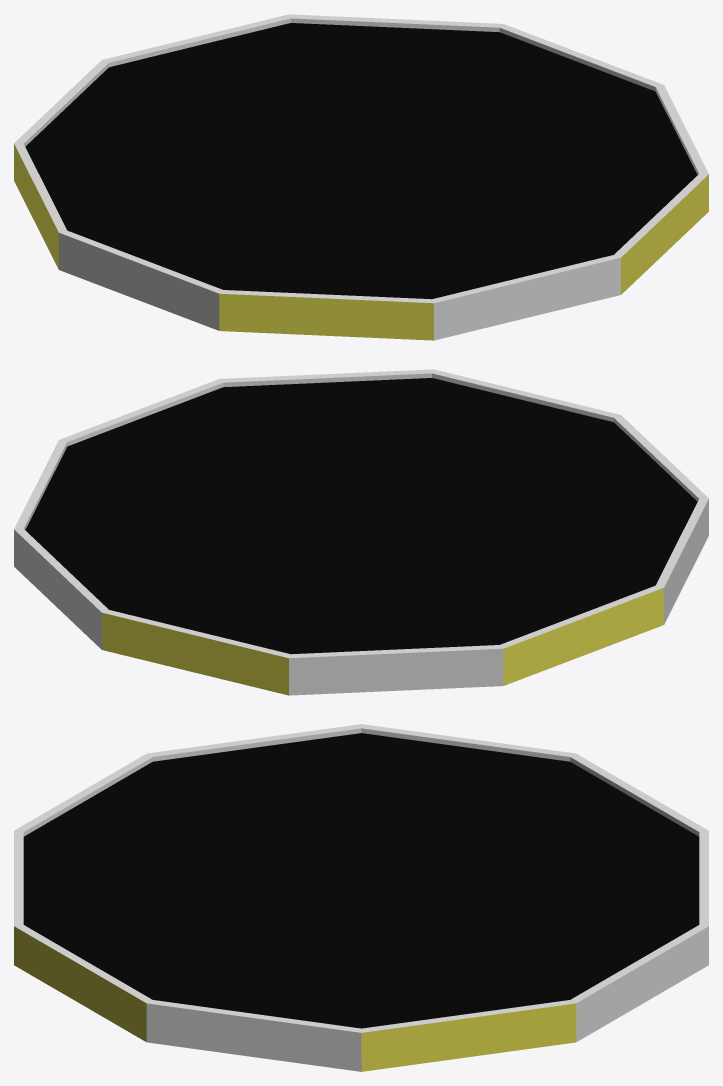
The model's file is IceCupSmallLid.fbx.
3 views of the same model, one above another, from view 1: azimuth 30°, elevation 25°; view 2: azimuth 150°, elevation 25°; view 3: azimuth 270°, elevation 25° (orthographic). The views are drawn at different scales.
Visible parts, largest first — view 1: IceCupOpenSmallLid; view 2: IceCupOpenSmallLid; view 3: IceCupOpenSmallLid.
Part boxes in pixels (x1,y1,x2,y2): IceCupOpenSmallLid: [14, 14, 708, 340]; IceCupOpenSmallLid: [14, 369, 708, 695]; IceCupOpenSmallLid: [14, 724, 708, 1071].
Size of the model in its own units: 10.41 by 0.6135 by 9.9.
